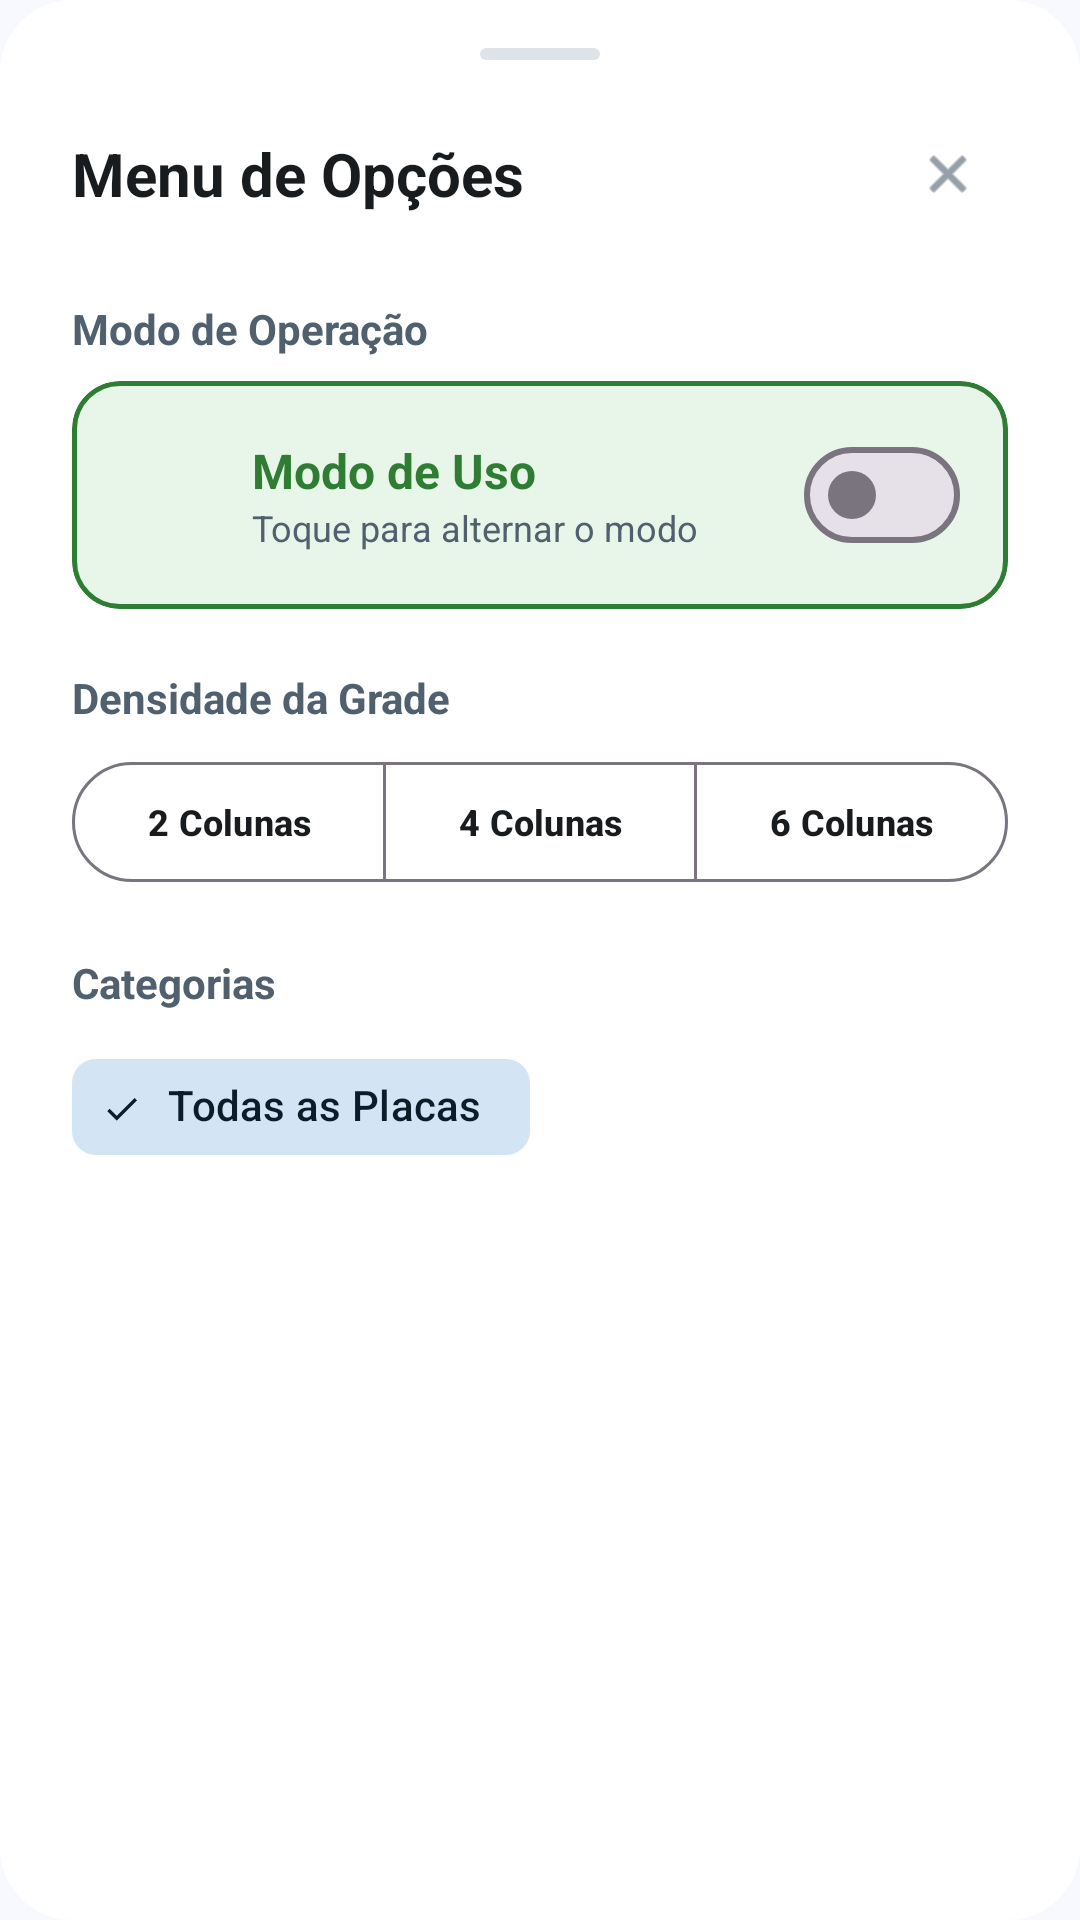

Screen size 1080 x 1920. Icon name, then its center in pixels as point (x, y):
Cancelar: point (948, 174)
